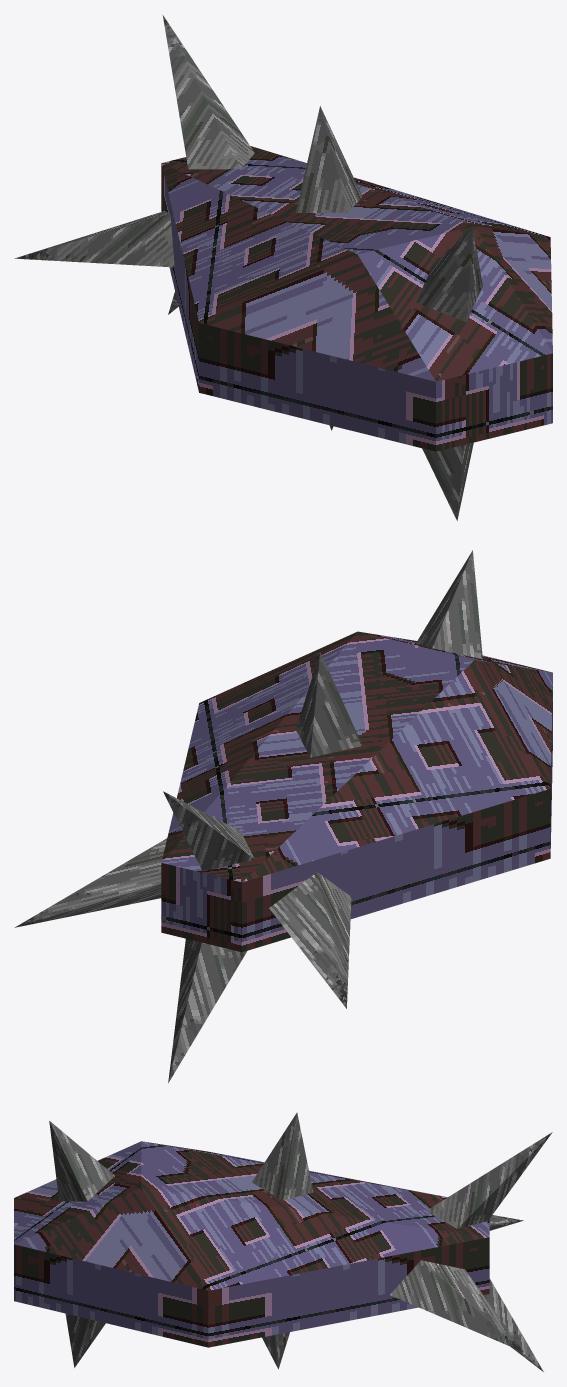
Rendered from model_082_robot.glb.
3 renders of one model, top to bottom at view 1: azimuth 30°, elevation 25°; view 2: azimuth 150°, elevation 25°; view 3: azimuth 270°, elevation 25°, orthographic. The views are drawn at different scales.
Visible parts, largest first — view 1: model_082; view 2: model_082; view 3: model_082.
Boxes of the visible parts, x1,y1,x2,y2 form: model_082: (14,15,552,520); model_082: (14,550,552,1083); model_082: (14,1112,552,1371).
Size of the model in its own units: 4.89 by 4.27 by 8.
2 materials, 2 textured.
